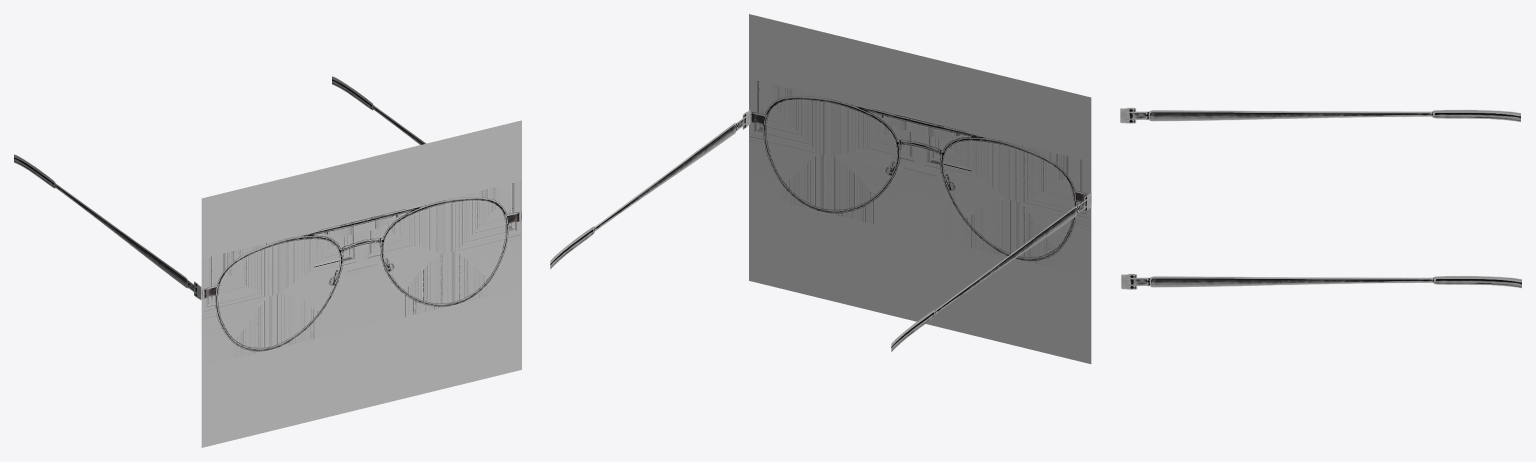
Rendered from gothamstyle-stainless-8_f6.glb.
3 renders of one model, left to right at view 1: azimuth 30°, elevation 25°; view 2: azimuth 150°, elevation 25°; view 3: azimuth 270°, elevation 25°, orthographic. The views are drawn at different scales.
Visible parts, largest first — view 1: Front, Right, Left; view 2: Front, Right, Left; view 3: Right, Left.
Boxes of the visible parts, x1,y1,x2,y2 form: Front: (201,120,521,447); Right: (14,154,201,299); Left: (332,76,425,144); Front: (749,14,1091,363); Right: (891,192,1091,351); Left: (550,109,750,269); Right: (1120,108,1520,123); Left: (1121,274,1521,289).
Bounding box in the file's own units: 147 × 109 × 149.
Materials: 4 (4 with a texture image).
